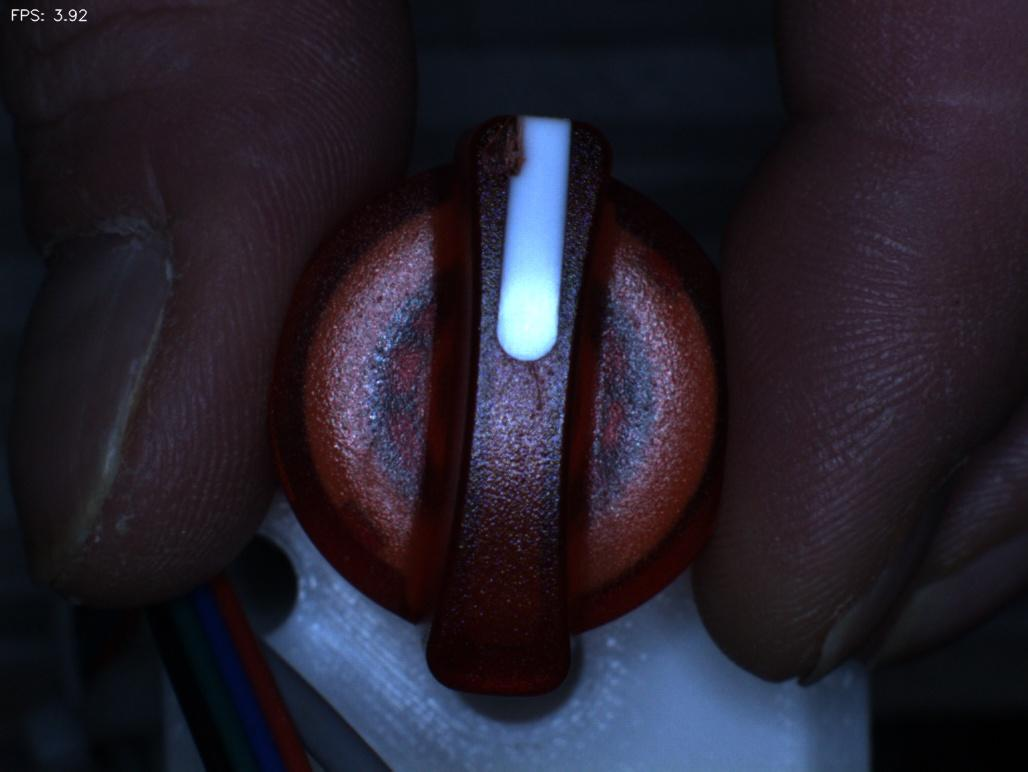Choc: (461, 95, 555, 204)
